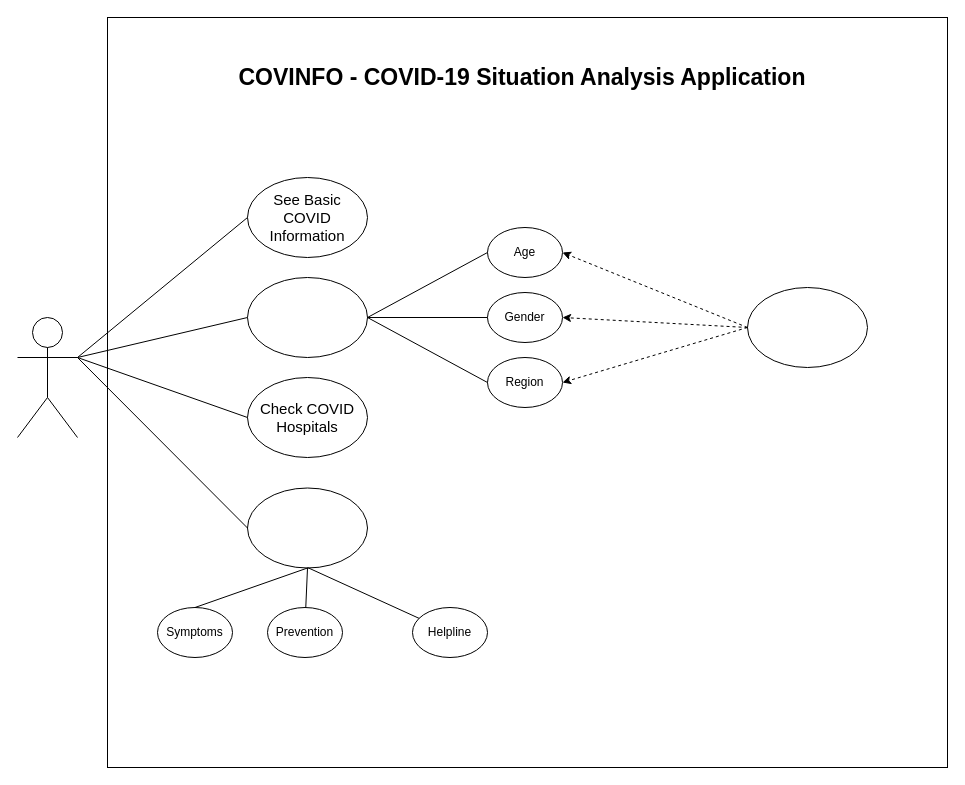
The diagram is 965 pixels wide and 785 high, and some of its shapes have lost their labels. Each missing label, with the centre of its shape:
Choose Timeline: the point at 807,327
See Graphs: the point at 307,317
See Infographics: the point at 307,527
User: the point at 47,377
